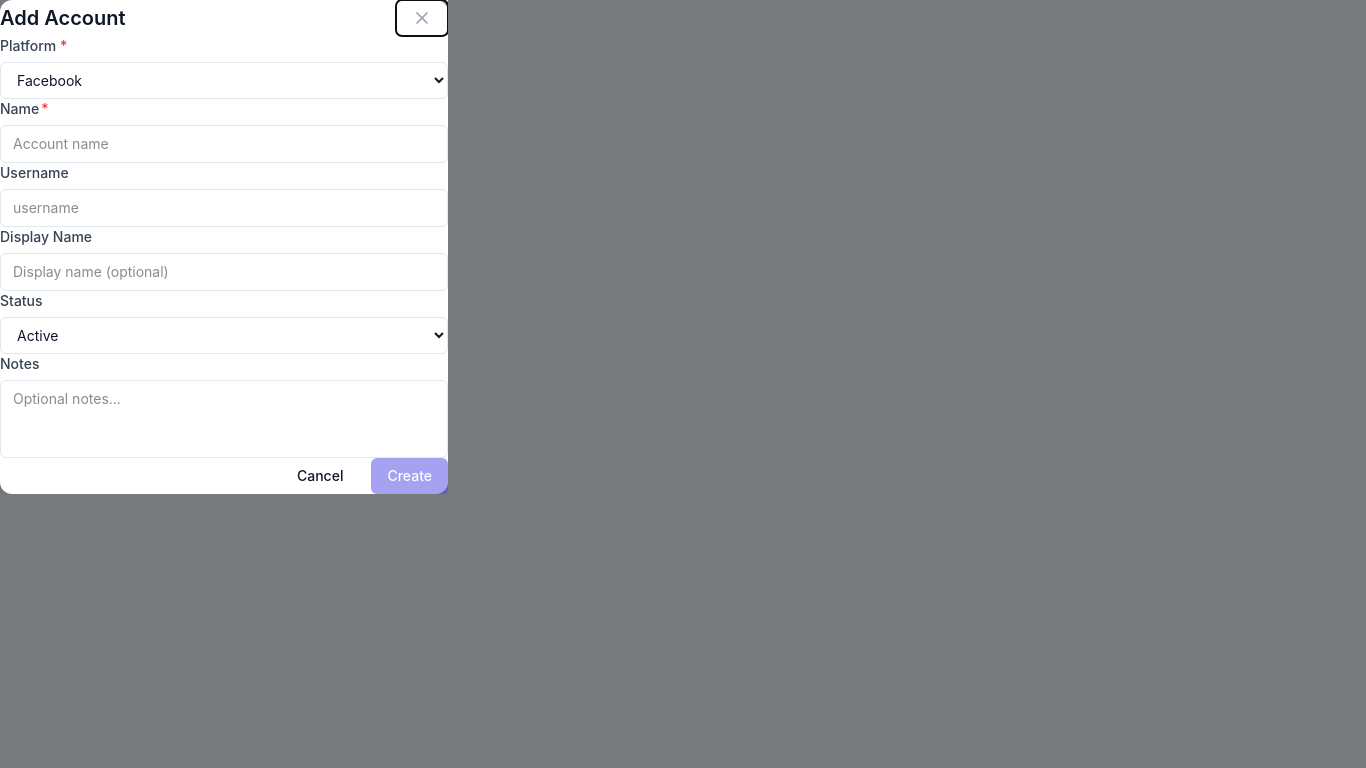
Test: AccountFormModal › validation › clears field error when modified
Type "Test" into the field labelled "Name *" at (224, 144), box [0,125,448,163]
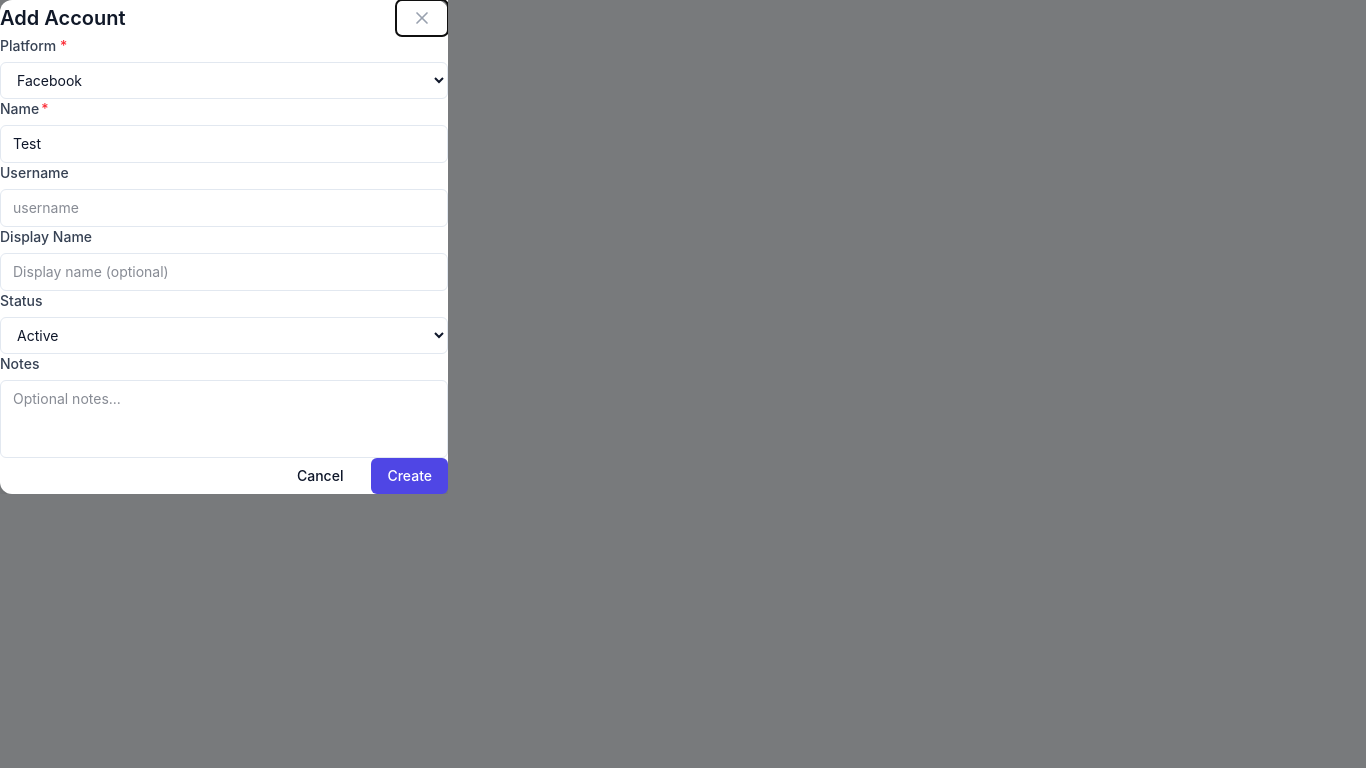
Type "invalid-user!" into the field labelled "Username" at (224, 208), box [0,189,448,227]
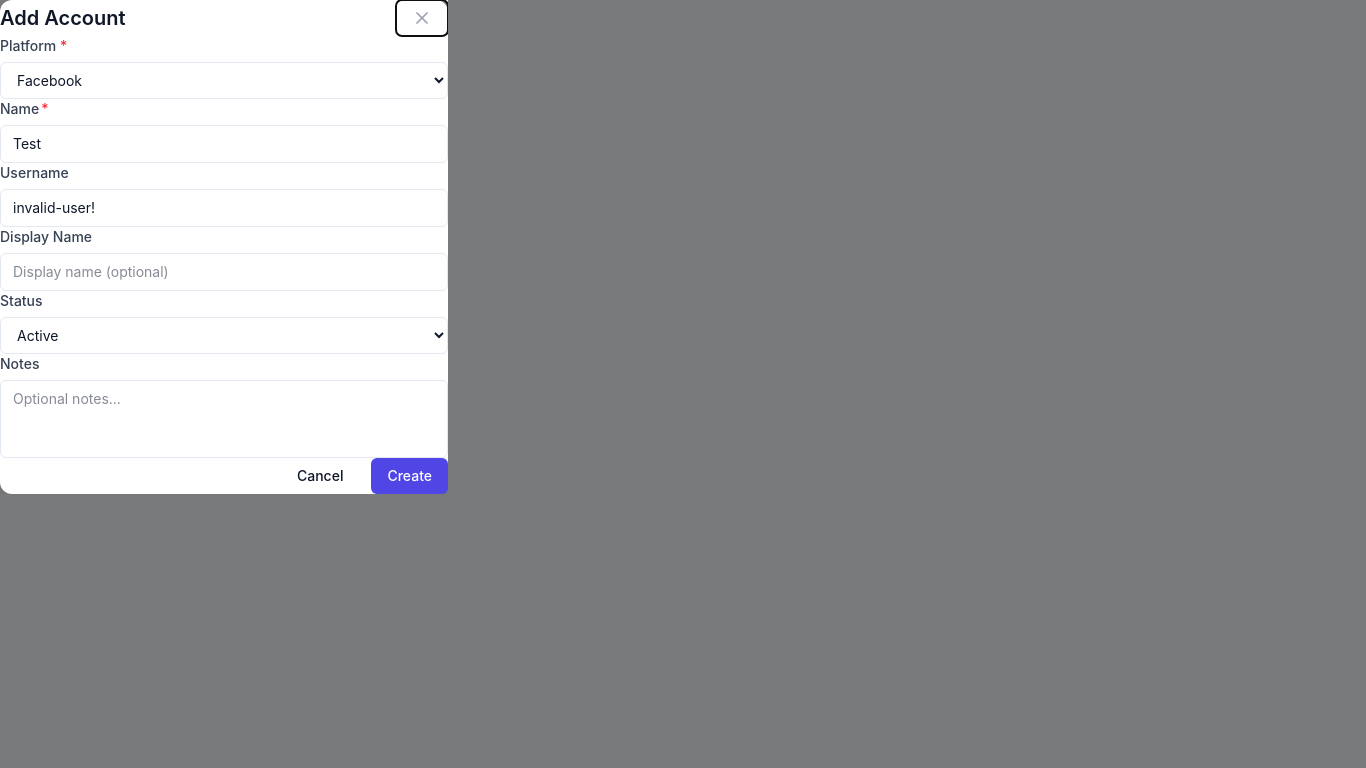
Click the button "Create" at (410, 476), box [371,458,448,494]
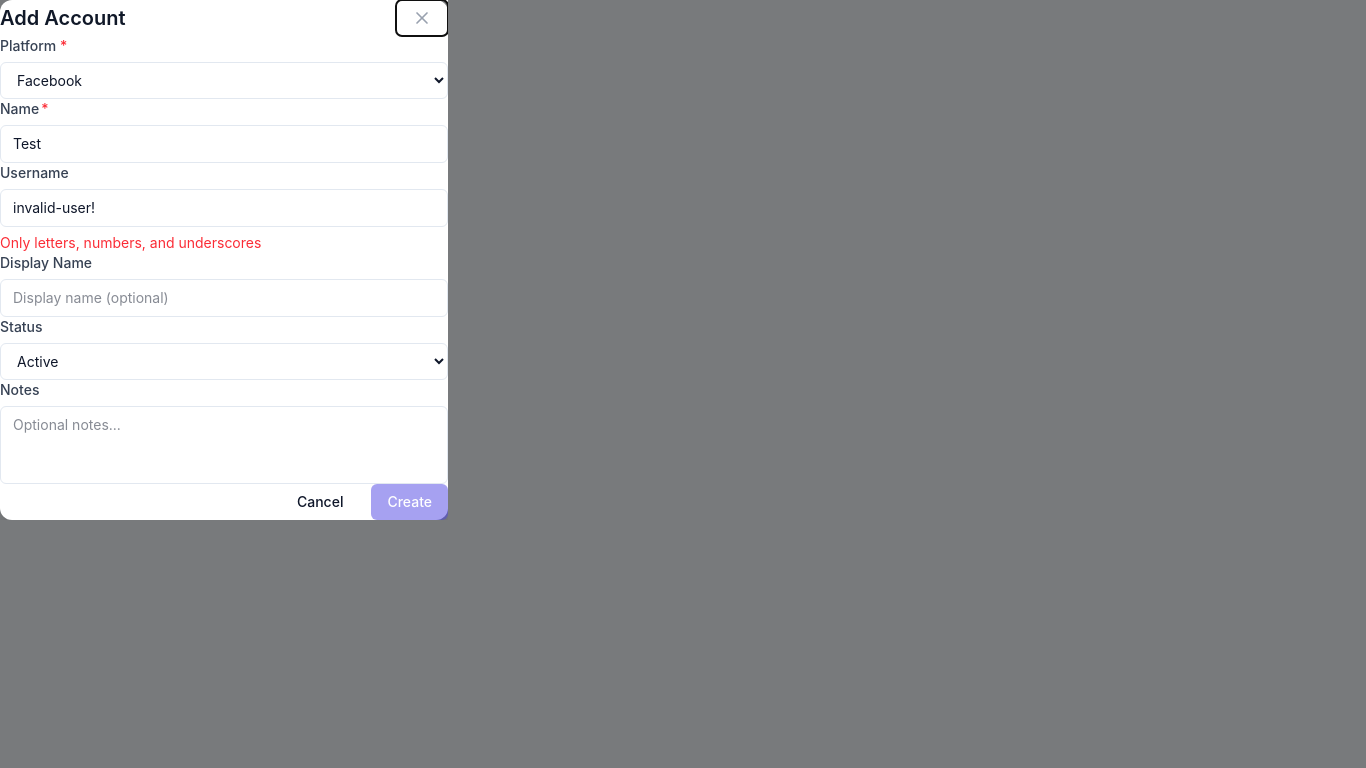
Check: the text "Only letters, numbers, and underscores" is shown, box [0,234,261,251]
Replace the text in the field labelled "Username" with "validuser" at (224, 208), box [0,189,448,227]
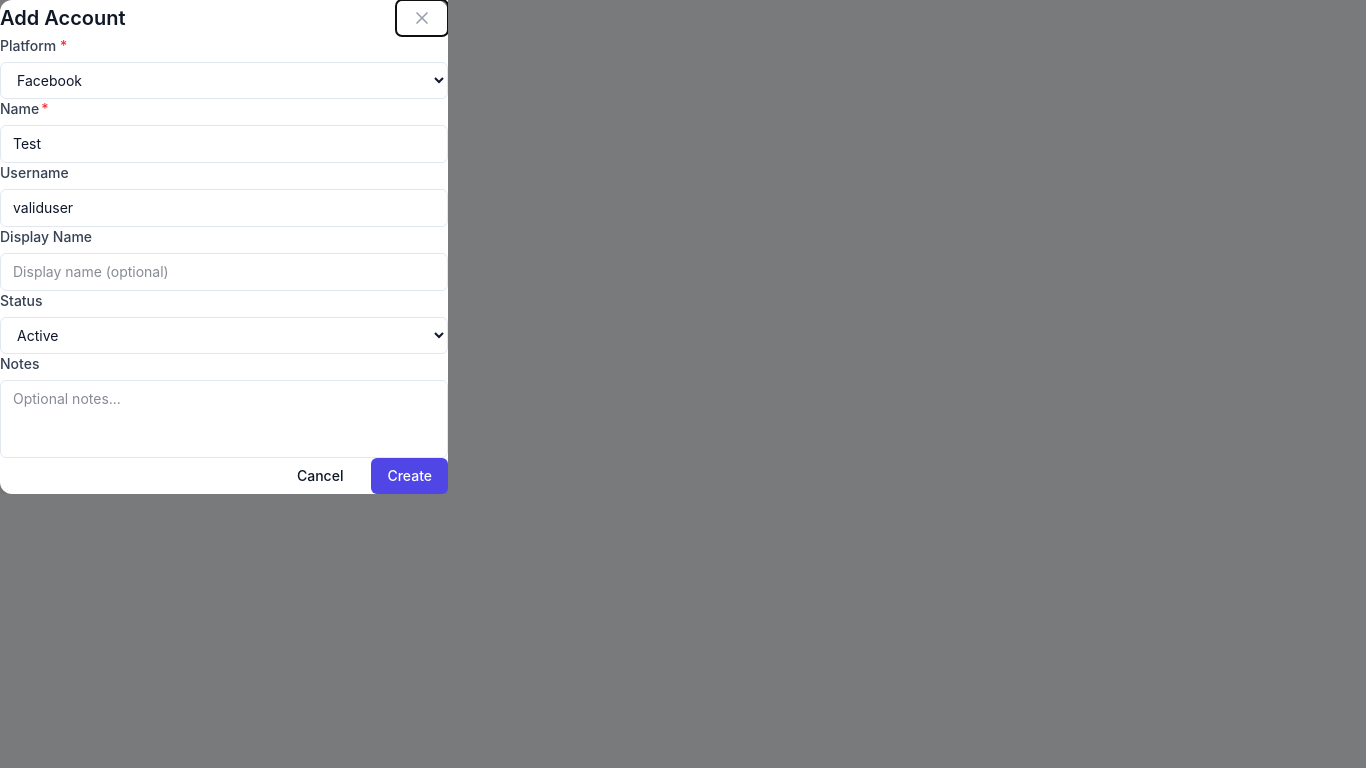
Check: the text "Only letters, numbers, and underscores" is gone
